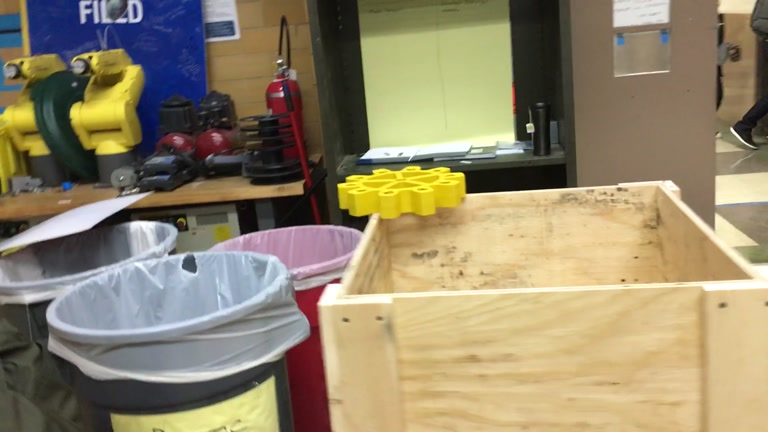gear: (336, 162, 466, 221)
